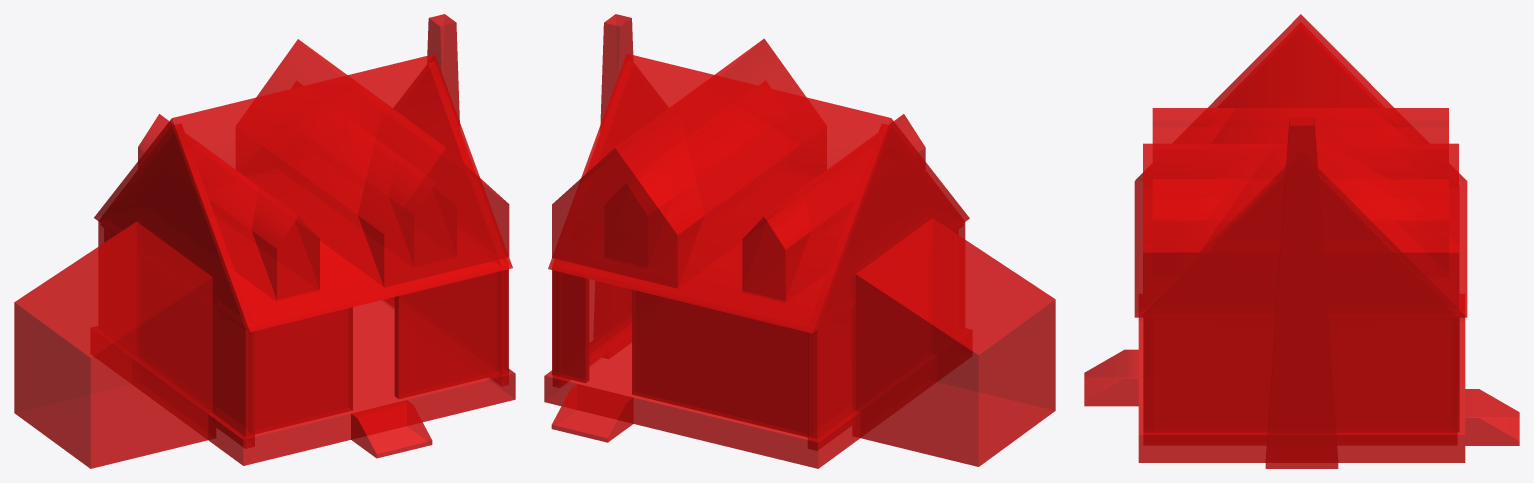
File: SM_Bld_TownHouse_03_Collision.fbx
The picture shows the model from 3 angles, left to right: view 1: azimuth 30°, elevation 25°; view 2: azimuth 150°, elevation 25°; view 3: azimuth 270°, elevation 25°; orthographic projection. The views are drawn at different scales.
Parts seen in each view (by area): view 1: SM_Bld_TownHouse_03_Collision; view 2: SM_Bld_TownHouse_03_Collision; view 3: SM_Bld_TownHouse_03_Collision.
Boxes of the visible parts, x1,y1,x2,y2 form: SM_Bld_TownHouse_03_Collision: (14,14,515,468); SM_Bld_TownHouse_03_Collision: (544,14,1055,468); SM_Bld_TownHouse_03_Collision: (1084,14,1519,468).
Size of the model in its own units: 1185 by 909 by 1045.
